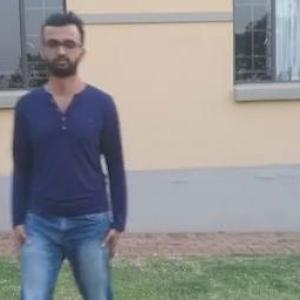follow: (5, 13, 120, 299)
